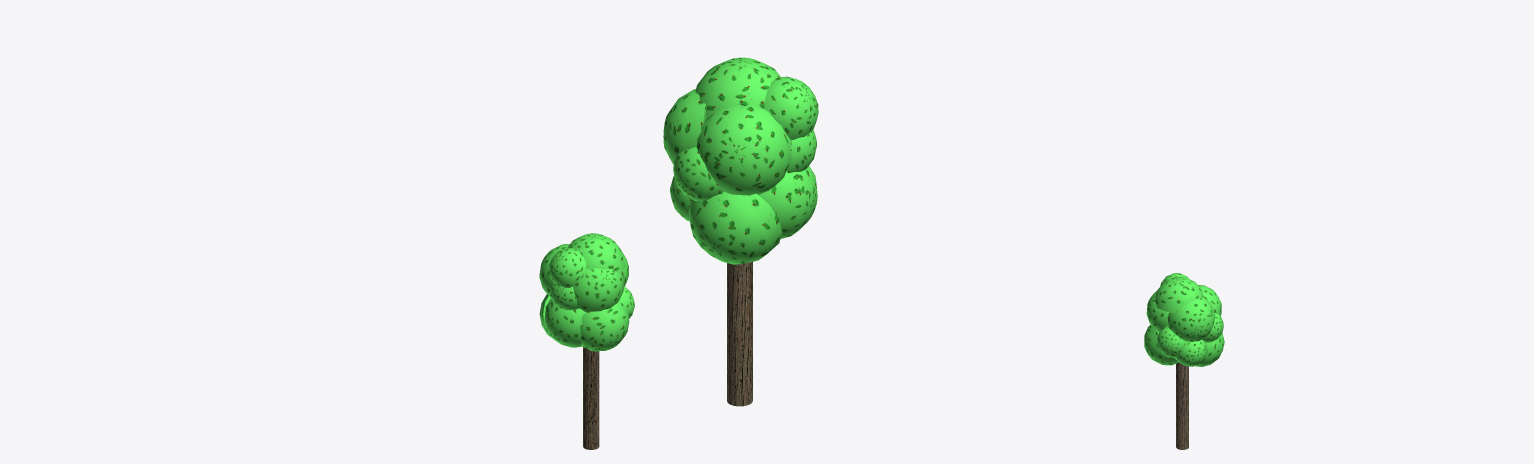
File: three 3.FBX
3 views of the same model, side by side, from view 1: azimuth 30°, elevation 25°; view 2: azimuth 150°, elevation 25°; view 3: azimuth 270°, elevation 25° (orthographic). The views are drawn at different scales.
Visible parts, largest first — view 1: Sphere002, Sphere006, Cylinder001, Sphere009, Sphere004, Sphere010; view 2: Sphere005, Sphere001, Cylinder001, Sphere009, Sphere010, Sphere004, Sphere008, Sphere012, Sphere007, Sphere003; view 3: Sphere008, Sphere009, Cylinder001, Sphere003, Sphere011, Sphere002, Sphere006, Sphere001.
Part boxes in pixels (bbox=[...]): Sphere002: bbox=[580, 302, 629, 351]; Sphere006: bbox=[573, 268, 624, 312]; Cylinder001: bbox=[583, 347, 599, 449]; Sphere009: bbox=[567, 233, 625, 272]; Sphere004: bbox=[544, 298, 586, 347]; Sphere010: bbox=[549, 248, 586, 287]; Sphere005: bbox=[696, 105, 791, 195]; Sphere001: bbox=[688, 191, 782, 264]; Cylinder001: bbox=[727, 261, 752, 406]; Sphere009: bbox=[695, 57, 780, 118]; Sphere010: bbox=[764, 76, 818, 139]; Sphere004: bbox=[758, 166, 817, 239]; Sphere008: bbox=[663, 89, 706, 164]; Sphere012: bbox=[673, 147, 723, 201]; Sphere007: bbox=[787, 130, 816, 173]; Sphere003: bbox=[670, 176, 691, 221]; Sphere008: bbox=[1167, 297, 1215, 341]; Sphere009: bbox=[1155, 277, 1203, 312]; Cylinder001: bbox=[1176, 362, 1188, 449]; Sphere003: bbox=[1176, 340, 1207, 366]; Sphere011: bbox=[1157, 326, 1186, 357]; Sphere002: bbox=[1144, 325, 1179, 365]; Sphere006: bbox=[1146, 291, 1169, 331]; Sphere001: bbox=[1195, 333, 1224, 366].
Size of the model in its own units: 299 by 259 by 302.
2 materials, 2 textured.
